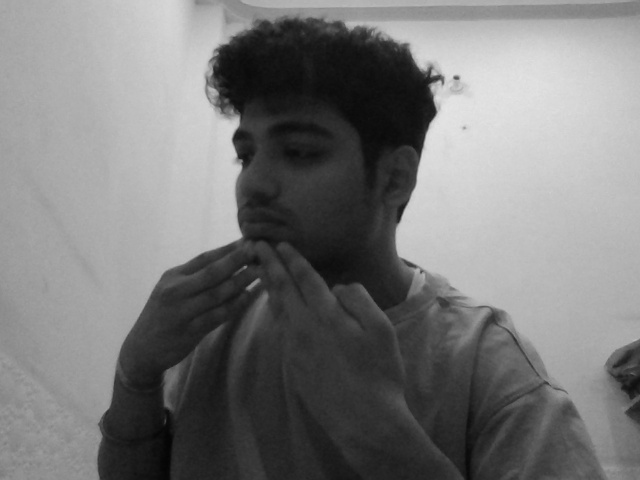Thanks: (83, 188, 441, 410)
